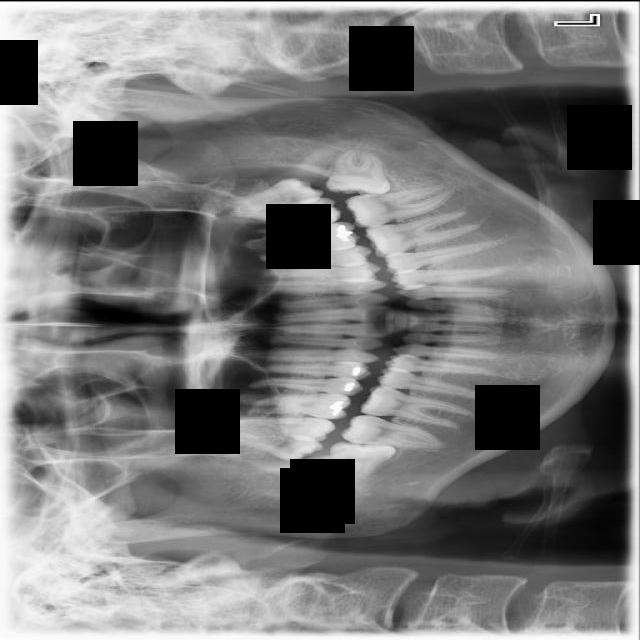3M ESPE Implant: (209, 417, 326, 466)
52: (310, 217, 362, 253), (308, 390, 352, 421), (329, 359, 372, 381), (323, 377, 364, 395)
73: (563, 16, 611, 28)
BioHorizons Implant: (219, 195, 343, 225)
BioLife Implant: (207, 171, 326, 219)
Biomet 3i Implant: (326, 145, 395, 197)
Blue Sky Bio Implant: (344, 181, 455, 231)
Caries: (220, 414, 337, 442)
Implant: (340, 412, 447, 450)
Keystone Dental Implant: (324, 439, 397, 482)
